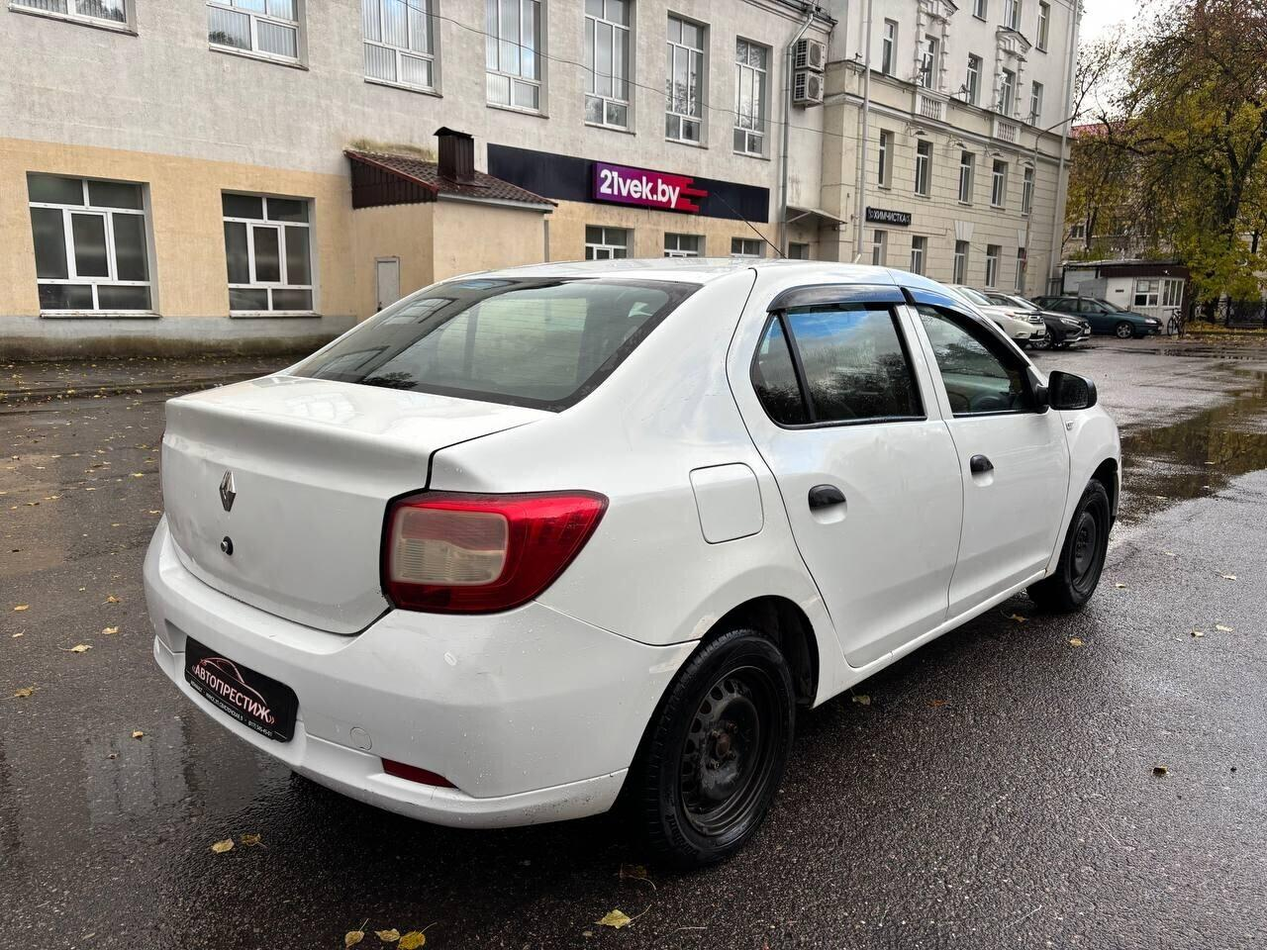Logan_2018: (140, 255, 1133, 856)
